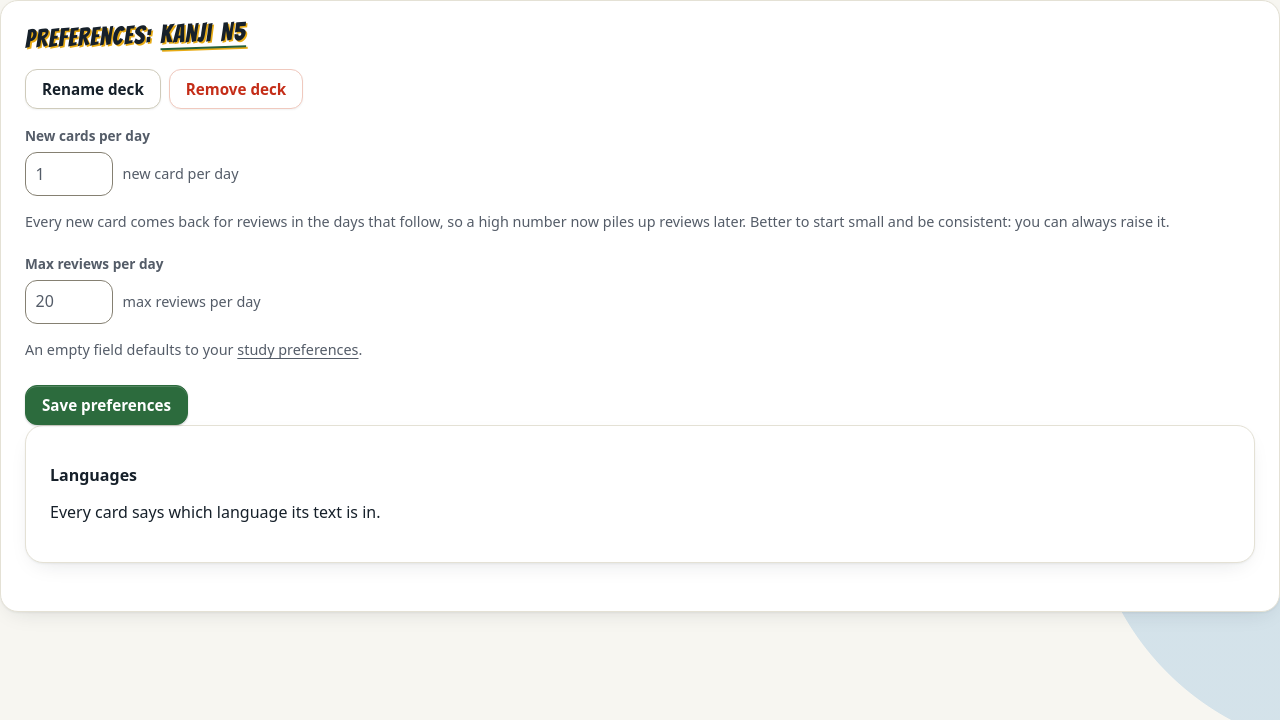
Test: DeckPreferencesScreen › says what each number counts, in the singular for one
expect the text "new card per day" is shown: met, box [123,163,238,185]
Type "3" into the number field labelled "New cards per day" at coordinates (69, 174), box [25,152,113,196]
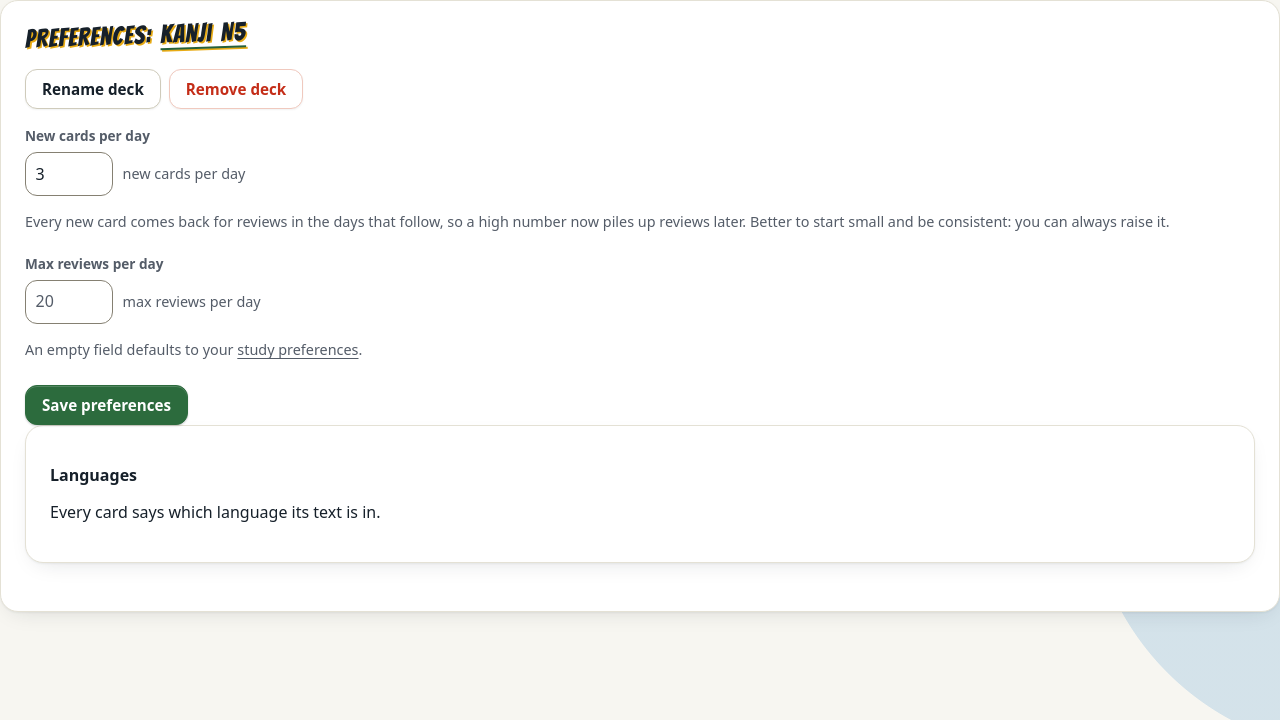
expect the text "new cards per day" is shown: met, box [123,163,245,185]
Type "1" into the number field labelled "Max reviews per day" at coordinates (69, 302), box [25,280,113,324]
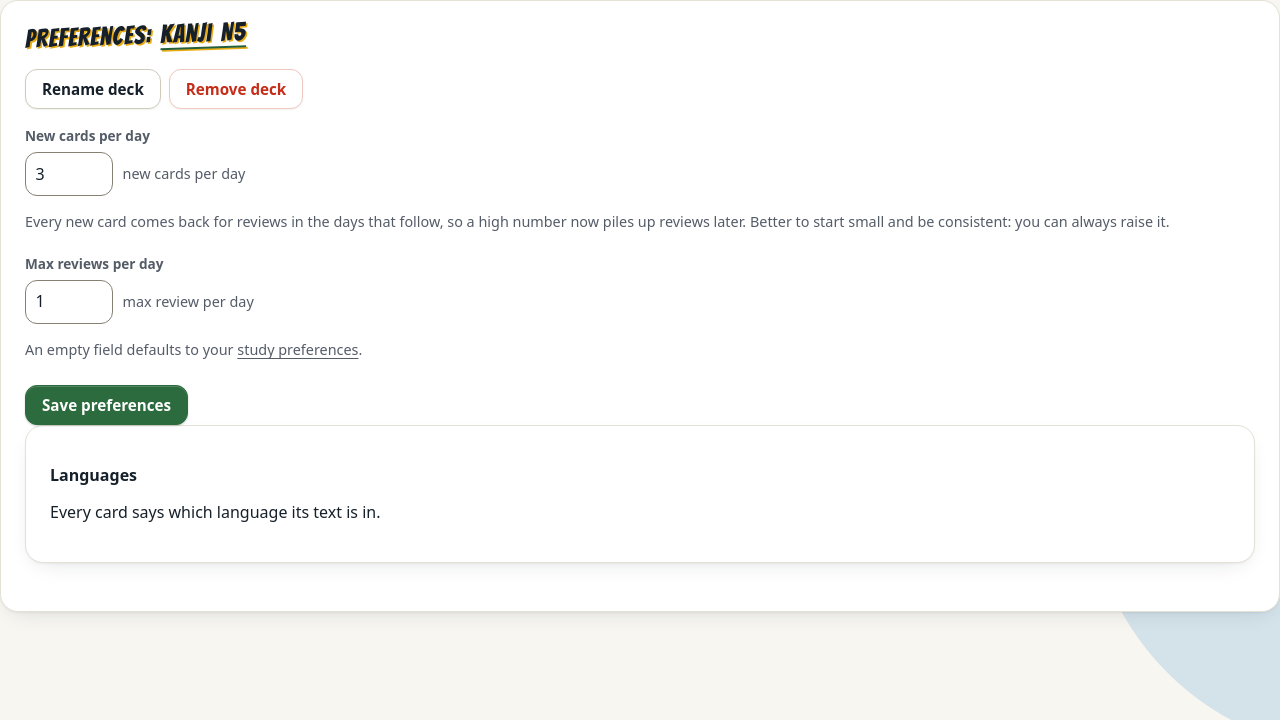
expect the text "max review per day" is shown: met, box [123,291,254,313]
